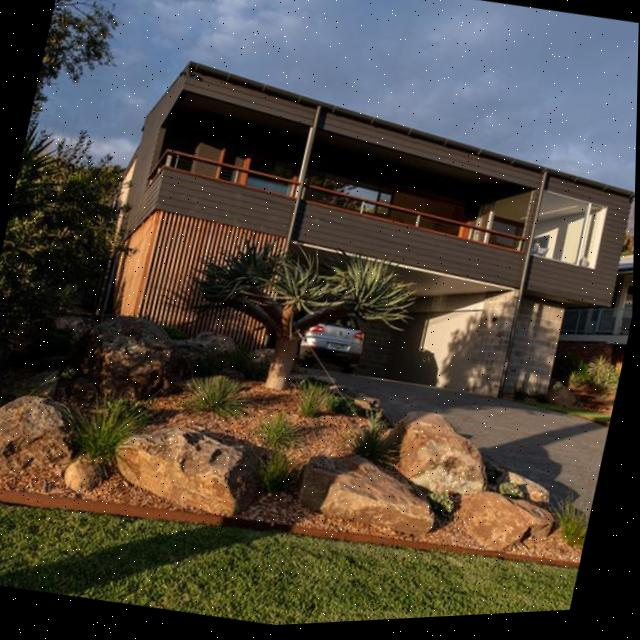building: (83, 25, 639, 438)
